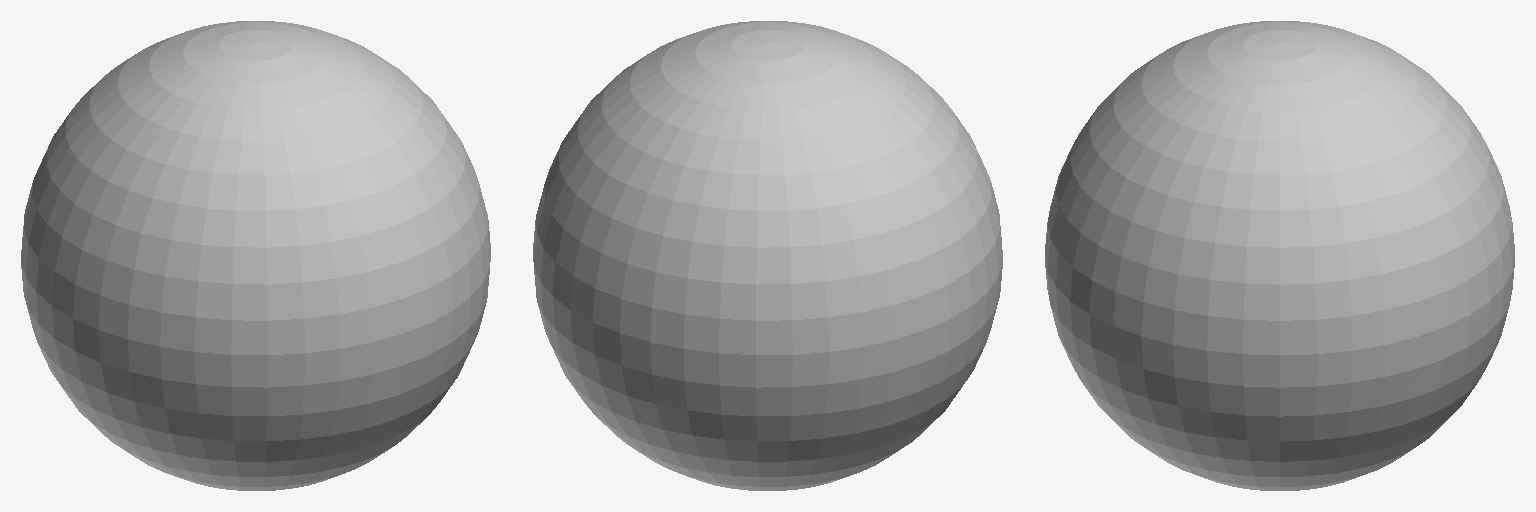
The model's file is planeta.obj.
3 views of the same model, side by side, from view 1: azimuth 30°, elevation 25°; view 2: azimuth 150°, elevation 25°; view 3: azimuth 270°, elevation 25° (orthographic).
Visible parts, largest first — view 1: Sphere; view 2: Sphere; view 3: Sphere.
Boxes of the visible parts, box(x1,y1,x2,y2) form: Sphere: box(21, 21, 490, 490); Sphere: box(533, 21, 1002, 490); Sphere: box(1045, 21, 1514, 490).
Size of the model in its own units: 2 by 2 by 2.